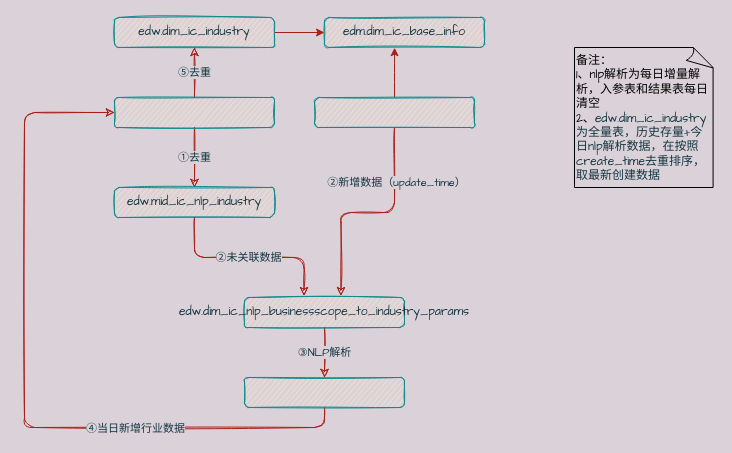
Some shapes in this 732 by 453 pixel diagram are drawn without their labels. Here are the shapes that lost their labels. From the top down, the centre of each, then its label:
the point at 194,112: edw.dim_ic_industry_nlp
the point at 394,112: edw.dim_ic_model_base_info_tmp
the point at 324,392: edw.dim_ic_nlp_businessscope_to_industry_result
